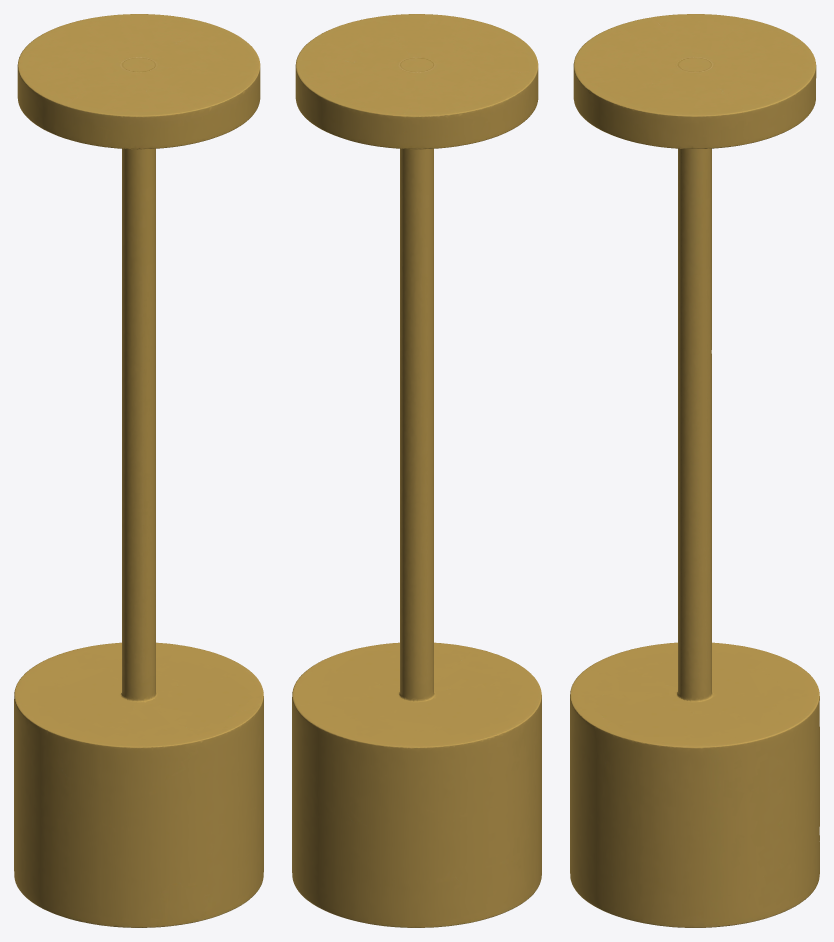
File: bed-table-lamp.glb
3 views of the same model, side by side, from view 1: azimuth 30°, elevation 25°; view 2: azimuth 150°, elevation 25°; view 3: azimuth 270°, elevation 25° (orthographic).
Size of the model in its own units: 0.5306 by 1.9 by 0.5307.
Materials: 1 (1 with a texture image).
